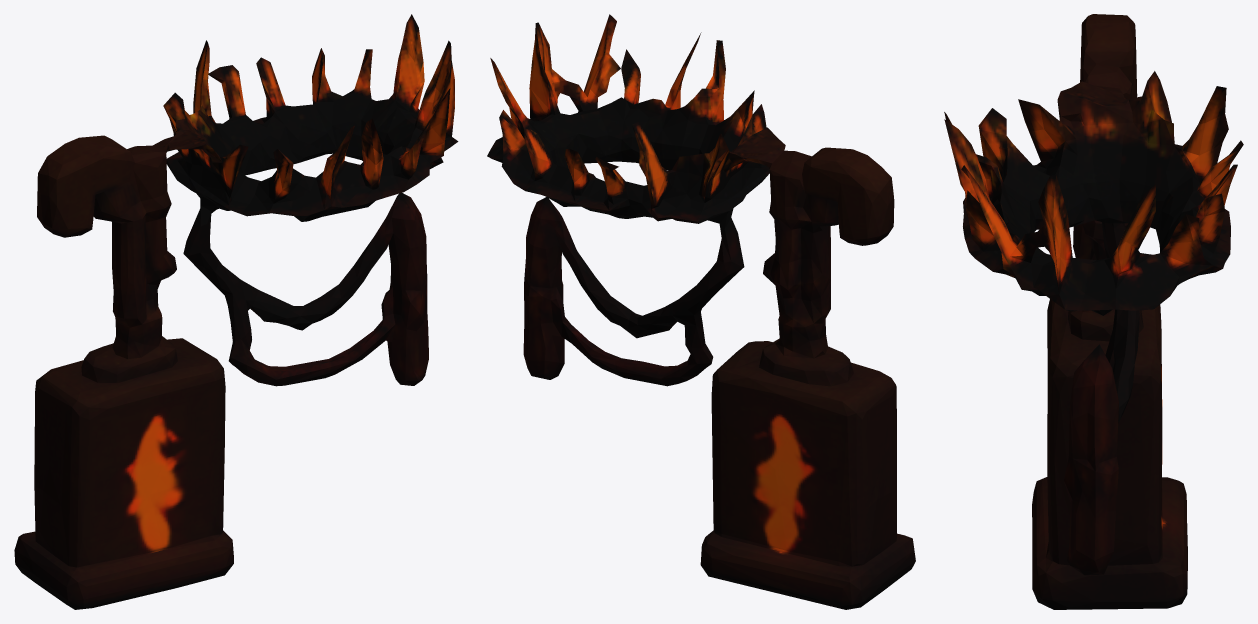
3 renders of one model, left to right at view 1: azimuth 30°, elevation 25°; view 2: azimuth 150°, elevation 25°; view 3: azimuth 270°, elevation 25°, orthographic. The views are drawn at different scales.
Parts seen in each view (by area): view 1: geometry_0.048_Baked; view 2: geometry_0.048_Baked; view 3: geometry_0.048_Baked.
Part boxes in pixels (x1,y1,x2,y2): geometry_0.048_Baked: (14, 14, 458, 609); geometry_0.048_Baked: (487, 14, 915, 609); geometry_0.048_Baked: (944, 14, 1243, 609).
Size of the model in its own units: 31.48 by 35.54 by 17.08.
